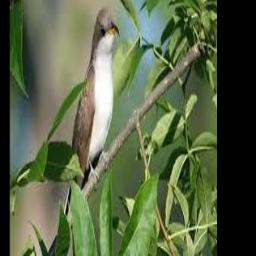Cuckoo: (61, 8, 120, 230)
